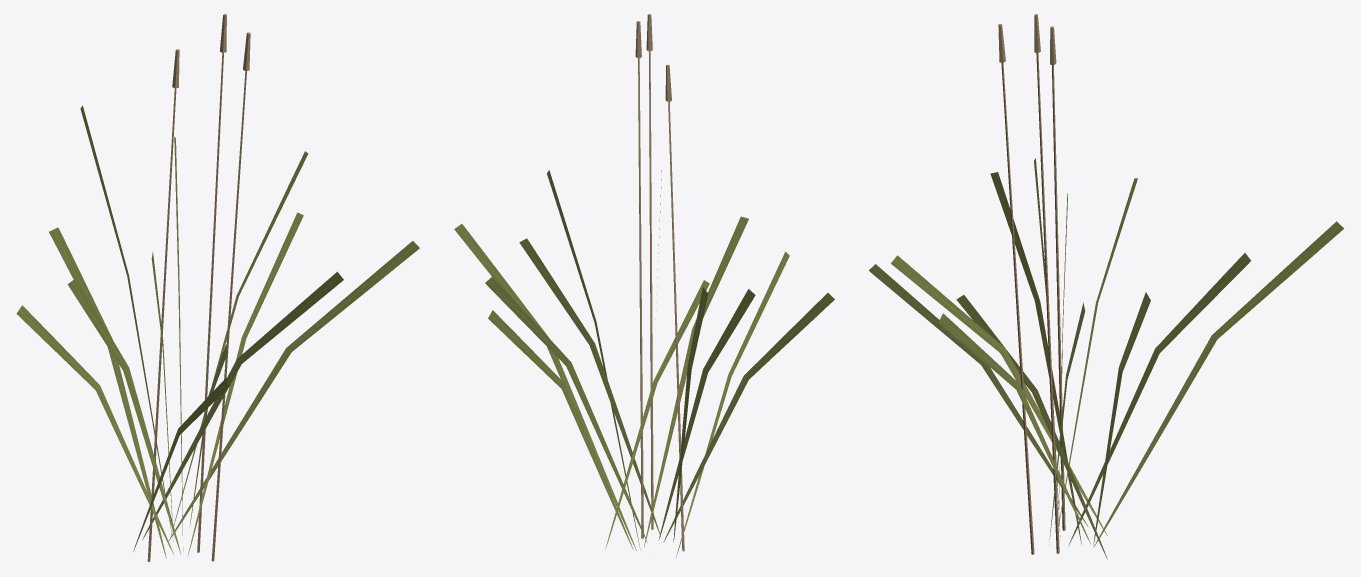
The model's file is reed_clump.glb.
The picture shows the model from 3 angles, left to right: view 1: azimuth 30°, elevation 25°; view 2: azimuth 150°, elevation 25°; view 3: azimuth 270°, elevation 25°; orthographic projection. The views are drawn at different scales.
Visible parts, largest first — view 1: reed_clump; view 2: reed_clump; view 3: reed_clump.
Boxes of the visible parts, bbox=[...] form: reed_clump: bbox=[16, 14, 419, 561]; reed_clump: bbox=[454, 14, 834, 558]; reed_clump: bbox=[869, 14, 1343, 559].
Size of the model in its own units: 1.63 by 2.36 by 1.87.
2 materials, 1 textured.
